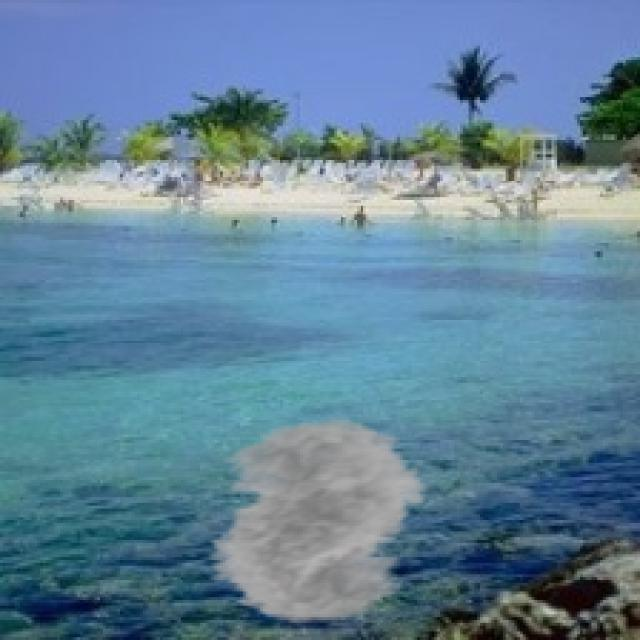Smoke: (180, 417, 449, 626)
